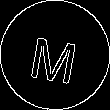M_N: (28, 26, 82, 84)
